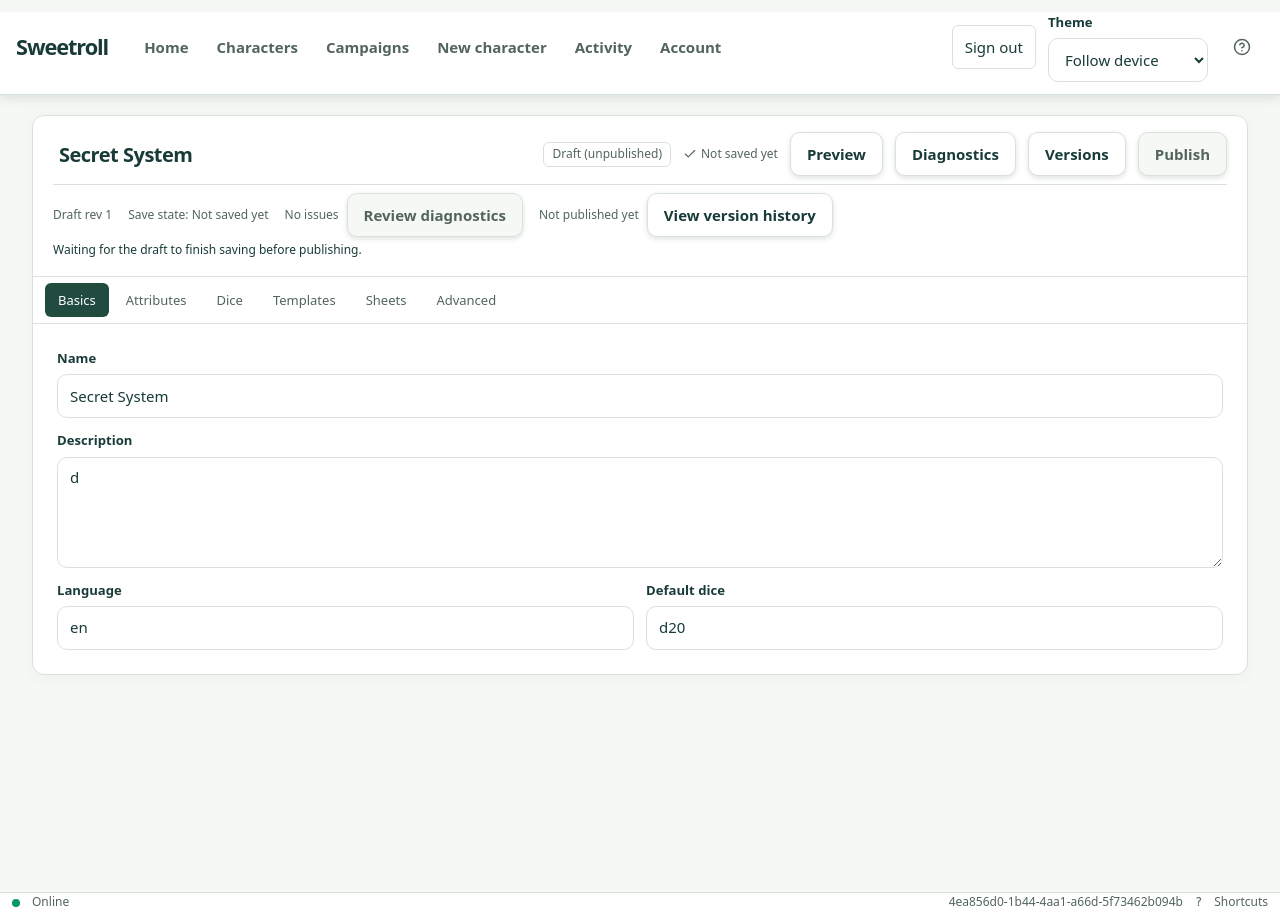
Test: AppShell › unmounts the system editor on sign-out with no system data or further fetches
Expected: the heading with test id "document-editor-name" reads "Secret System", [59, 141, 192, 168]
Click the button "Sign out": (994, 47) [952, 25, 1036, 69]
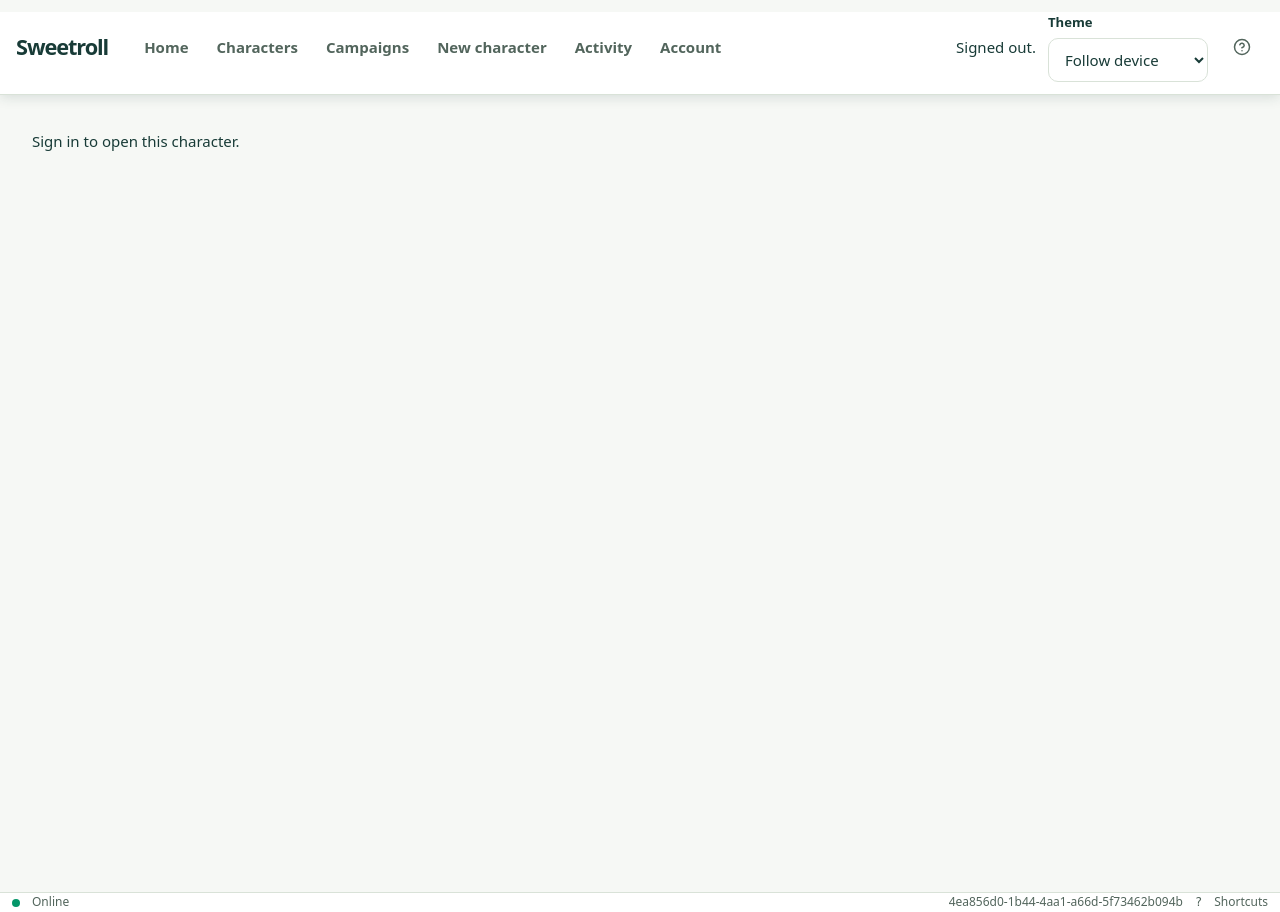
Expected: the text "Sign in to open this character." is shown, [32, 131, 240, 151]
Expected: the header with test id "document-editor-header" is gone
Expected: the heading "Secret System" is gone
